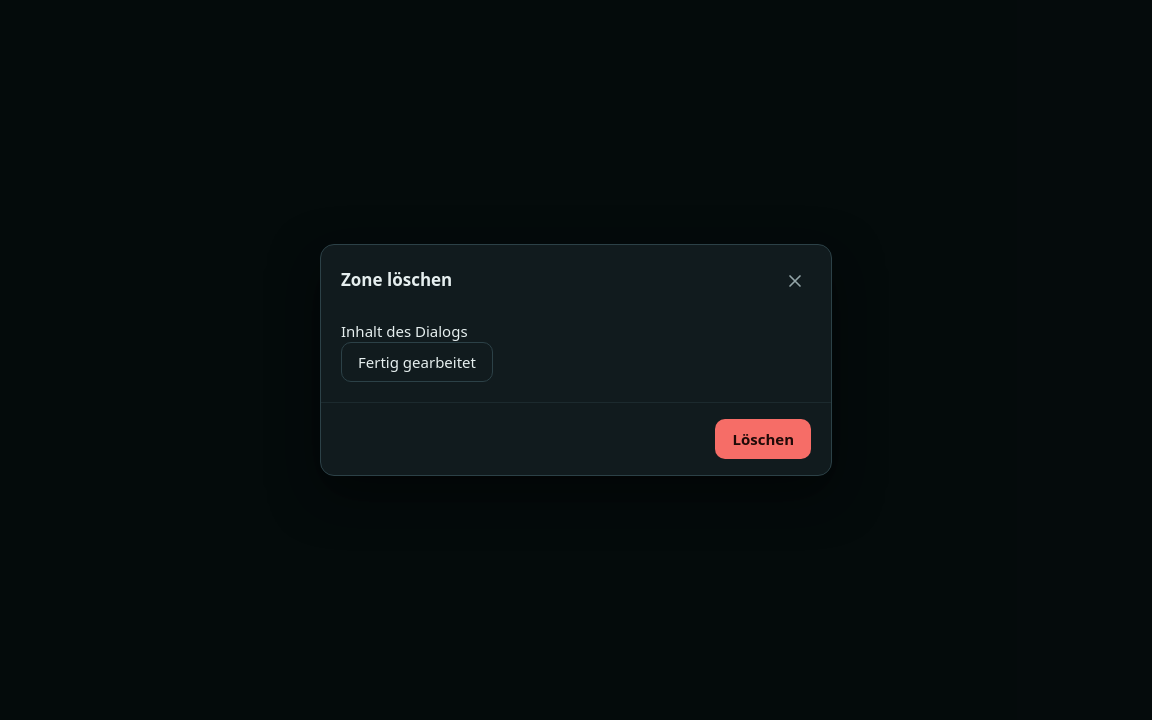
it: Dialog › solange er arbeitet (busy) › lässt das ✕ an seinem Platz, sperrt es aber erkennbar und sagt, warum
Later steps or results of the test are not shown.
Click the button "Löschen": click(763, 439) x1=716 y1=419 x2=811 y2=459
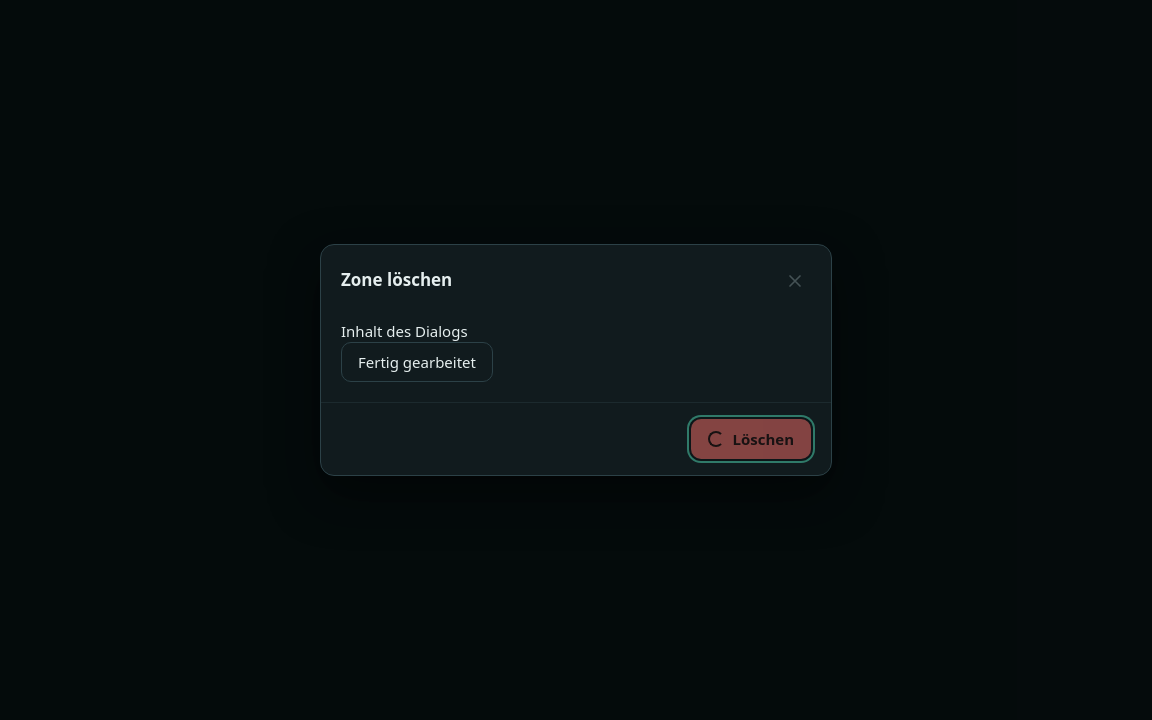
expect the button named "Schließen" is disabled: met, box x1=775 y1=261 x2=815 y2=301
